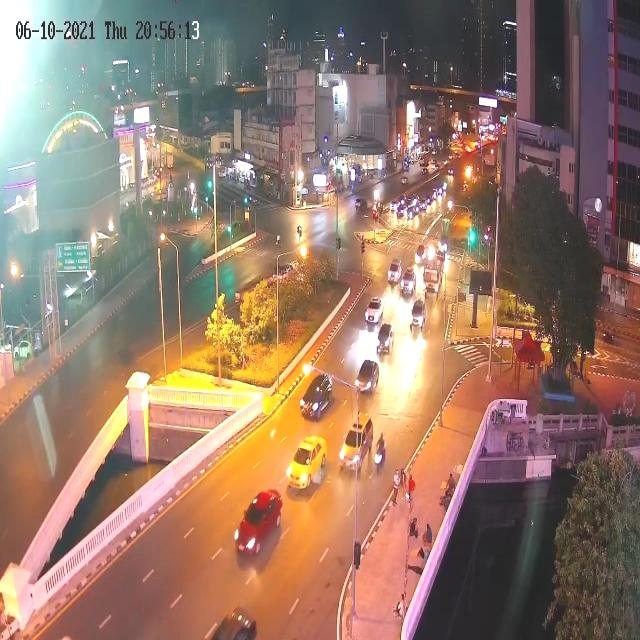Car: (234, 486, 282, 568), (286, 436, 326, 491), (338, 414, 371, 474), (208, 606, 257, 640), (300, 372, 332, 419), (355, 360, 379, 396), (423, 258, 443, 296), (271, 260, 301, 284), (377, 322, 395, 356), (366, 296, 386, 326), (410, 298, 426, 330), (401, 268, 416, 296), (387, 258, 403, 284), (414, 243, 428, 266), (415, 197, 431, 215), (437, 237, 449, 256), (396, 199, 408, 218), (432, 184, 446, 200), (406, 202, 418, 220), (354, 197, 368, 212), (426, 158, 440, 172), (425, 245, 436, 261), (389, 198, 400, 212), (421, 164, 431, 176), (400, 175, 409, 186), (448, 168, 454, 178)
